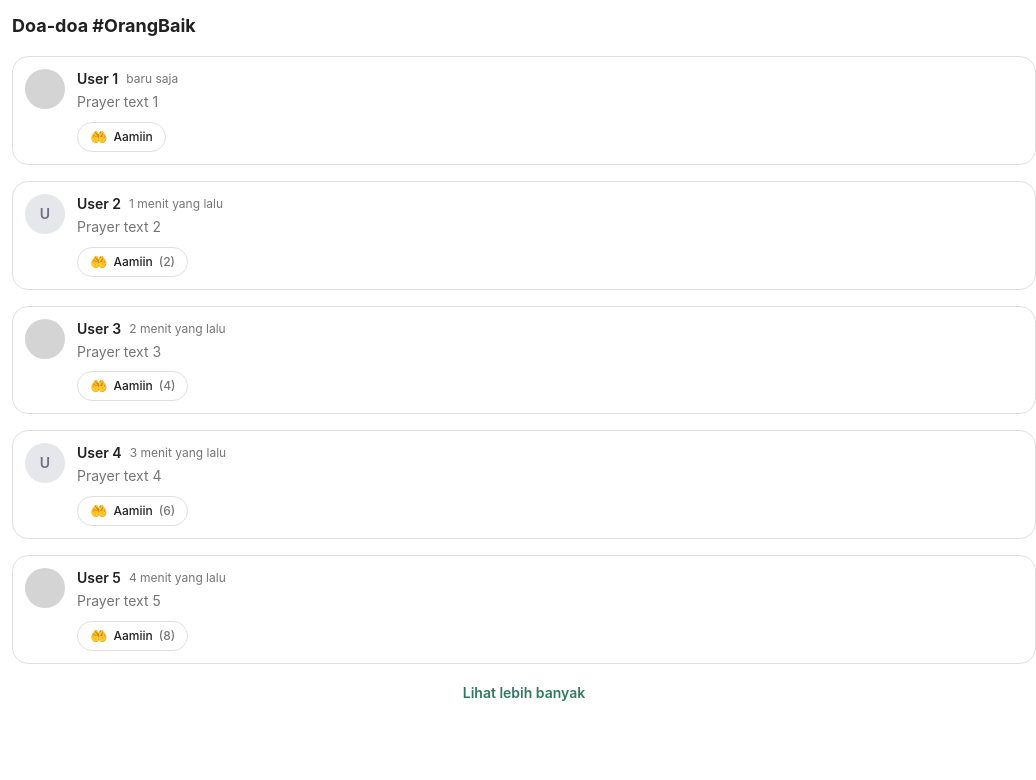
Test: PrayerWall › shows all prayers when "Lihat lebih banyak" is clicked
The width and height of the screenshot is (1036, 780).
Step 1. Click the button "Lihat lebih banyak" → {"x": 524, "y": 693}, box top-left (463, 683), bottom-right (585, 703)
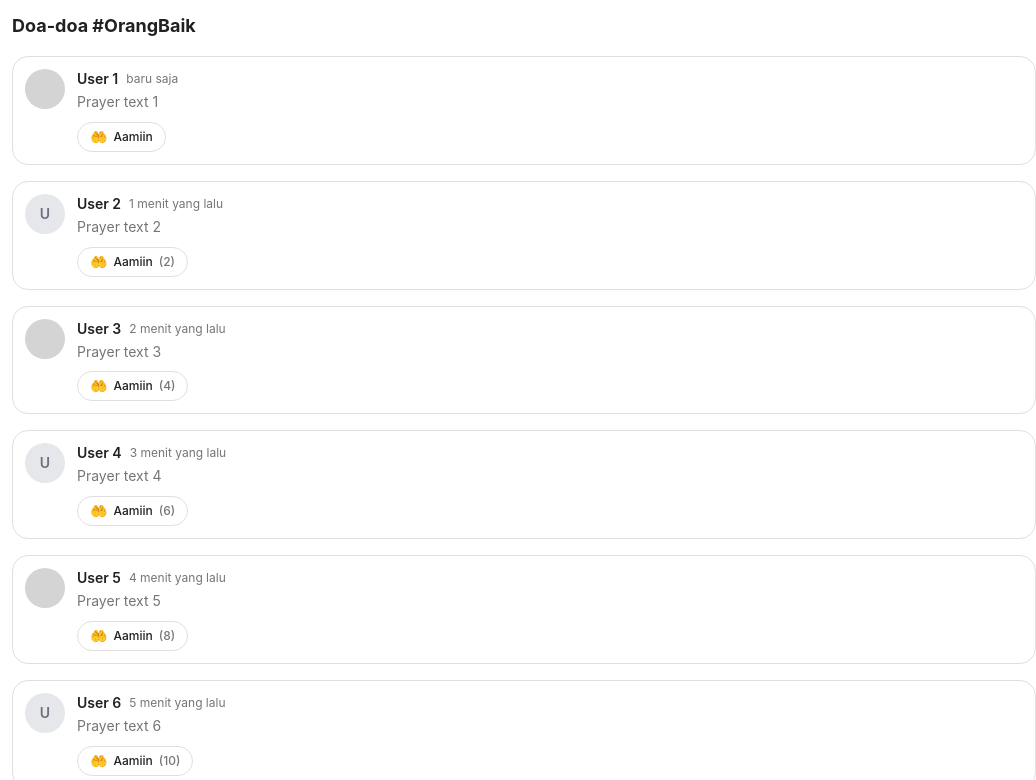
Now the text "Lihat lebih banyak" is gone
